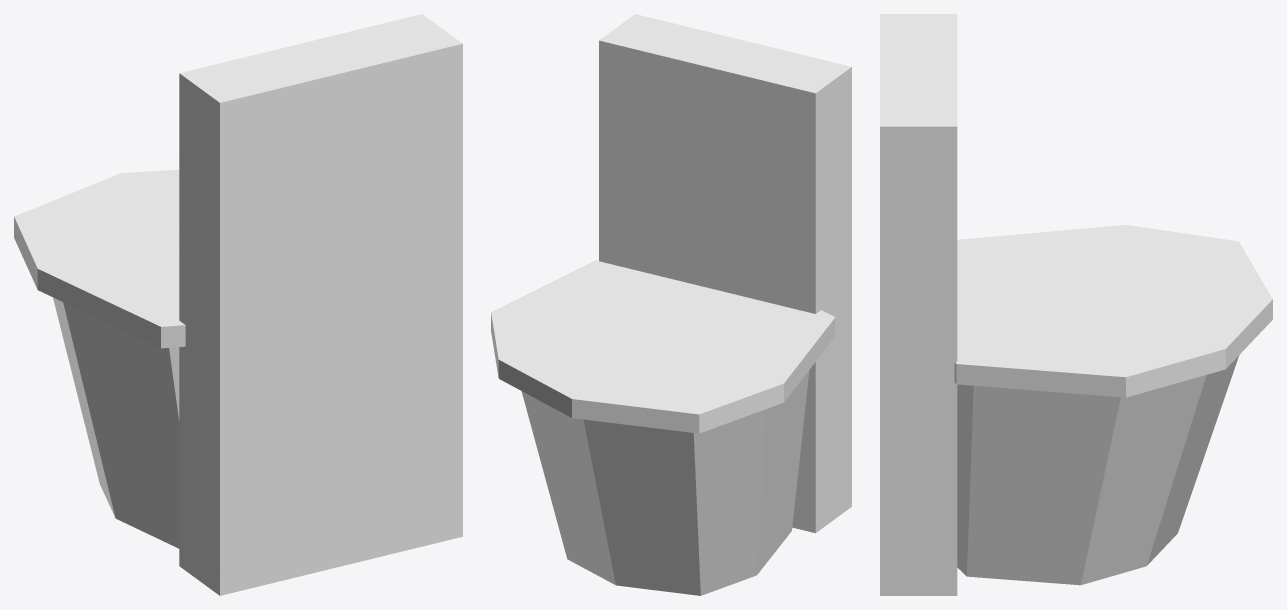
The picture shows the model from 3 angles, left to right: view 1: azimuth 30°, elevation 25°; view 2: azimuth 150°, elevation 25°; view 3: azimuth 270°, elevation 25°; orthographic projection. The views are drawn at different scales.
Visible parts, largest first — view 1: wc; view 2: wc; view 3: wc.
Part boxes in pixels (left/top/right/bottom): wc: left=14, top=14, right=462, bottom=595; wc: left=491, top=14, right=851, bottom=595; wc: left=880, top=14, right=1272, bottom=595.
Bounding box in the file's own units: 79.45 × 114 × 86.49.
